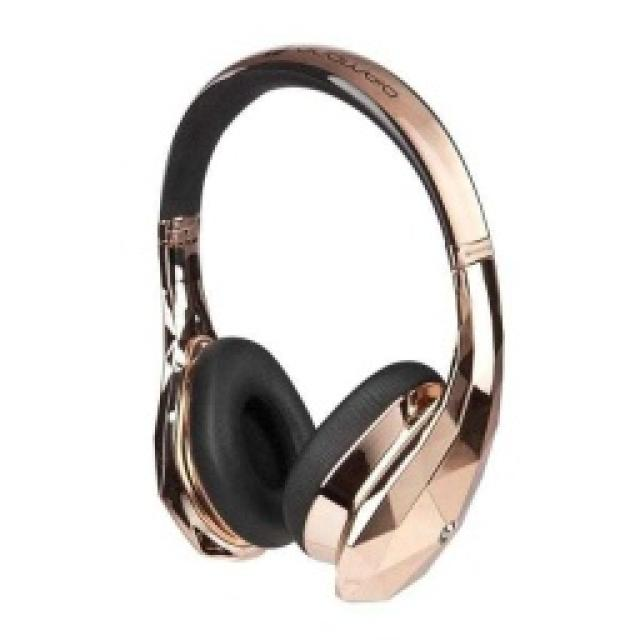headphones: (150, 40, 505, 600)
